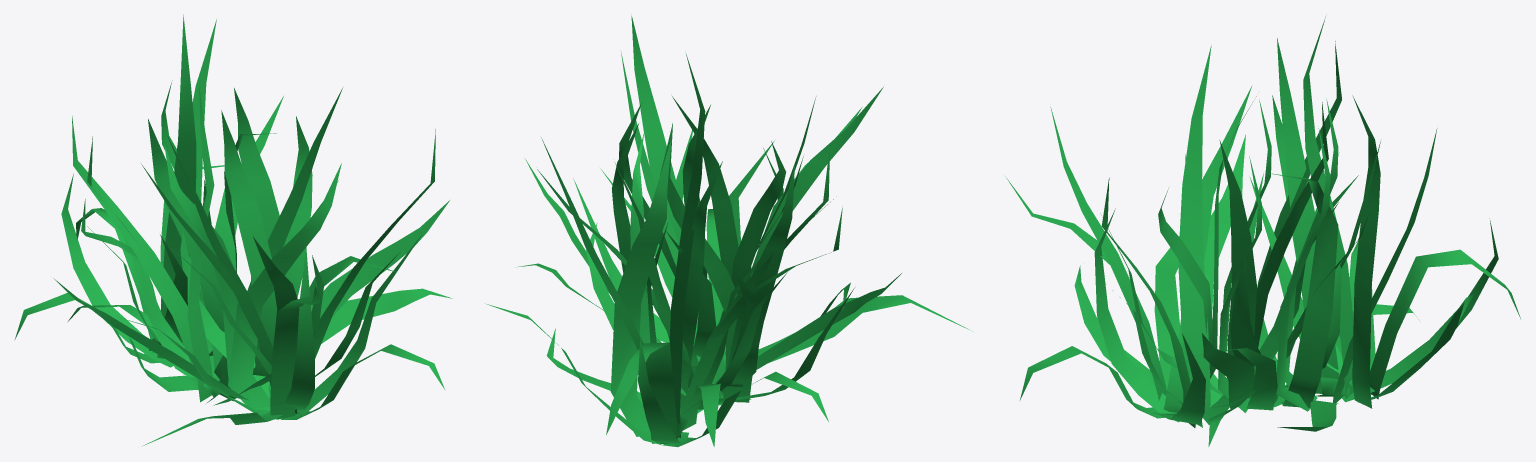
The model's file is grassB.obj.
3 views of the same model, side by side, from view 1: azimuth 30°, elevation 25°; view 2: azimuth 150°, elevation 25°; view 3: azimuth 270°, elevation 25° (orthographic). The views are drawn at different scales.
Visible parts, largest first — view 1: grass1.001; view 2: grass1.001; view 3: grass1.001.
Boxes of the visible parts, x1=… form: grass1.001: x1=14, y1=14, x2=452, y2=446; grass1.001: x1=485, y1=14, x2=972, y2=447; grass1.001: x1=1005, y1=16, x2=1520, y2=446.
Size of the model in its own units: 2.25 by 1.98 by 2.43.
1 material, 1 textured.
